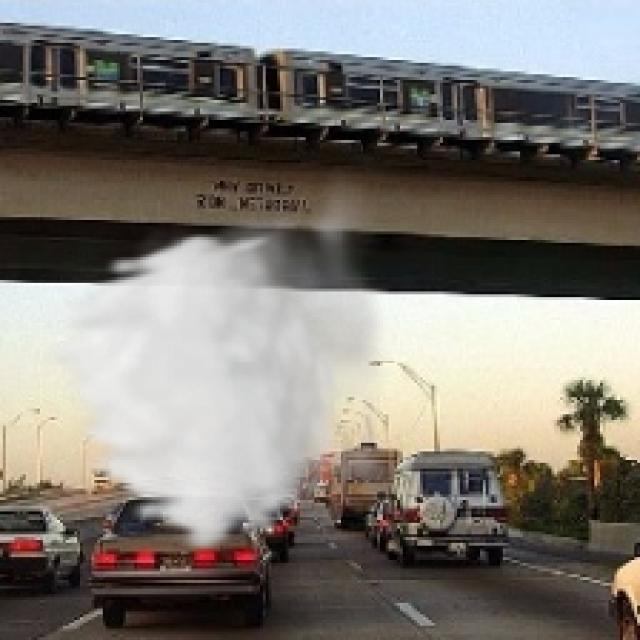Smoke: (37, 162, 412, 554)
